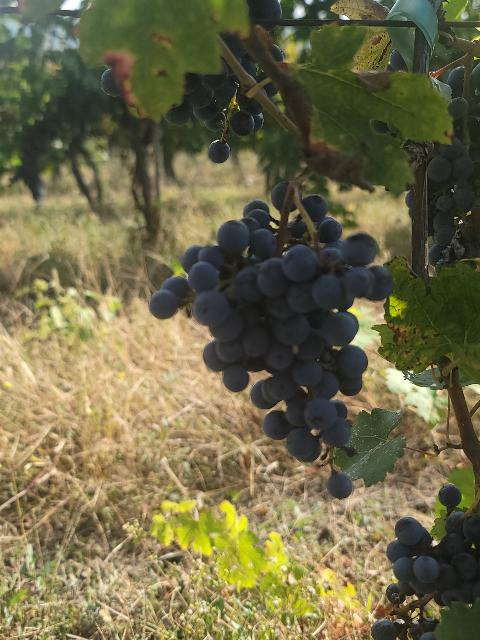grapes: (149, 195, 394, 462)
